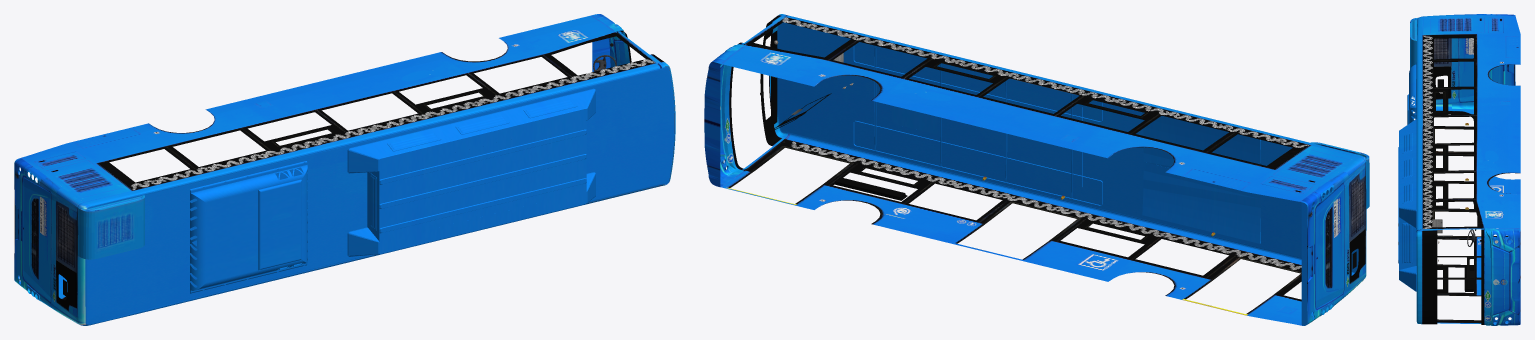
File: body_liaz_555.obj
3 views of the same model, side by side, from view 1: azimuth 30°, elevation 25°; view 2: azimuth 150°, elevation 25°; view 3: azimuth 270°, elevation 25° (orthographic). The views are drawn at different scales.
Parts seen in each view (by area): view 1: Liaz1_hheh4; view 2: Liaz1_hheh4; view 3: Liaz1_hheh4.
Boxes of the visible parts, x1=… form: Liaz1_hheh4: x1=14, y1=14, x2=675, y2=325; Liaz1_hheh4: x1=704, y1=14, x2=1369, y2=325; Liaz1_hheh4: x1=1398, y1=14, x2=1520, y2=325.
Bounding box in the file's own units: 627 × 125 × 146.
